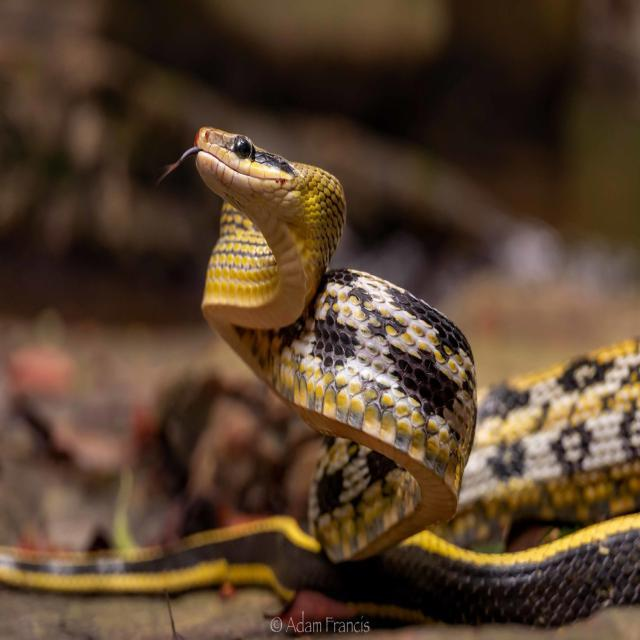Snake: (162, 102, 640, 640)
